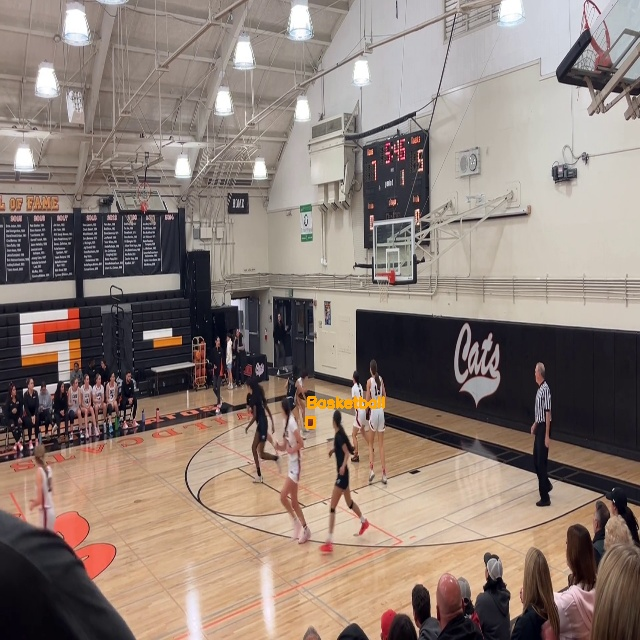Basketball: (306, 417, 314, 427)
